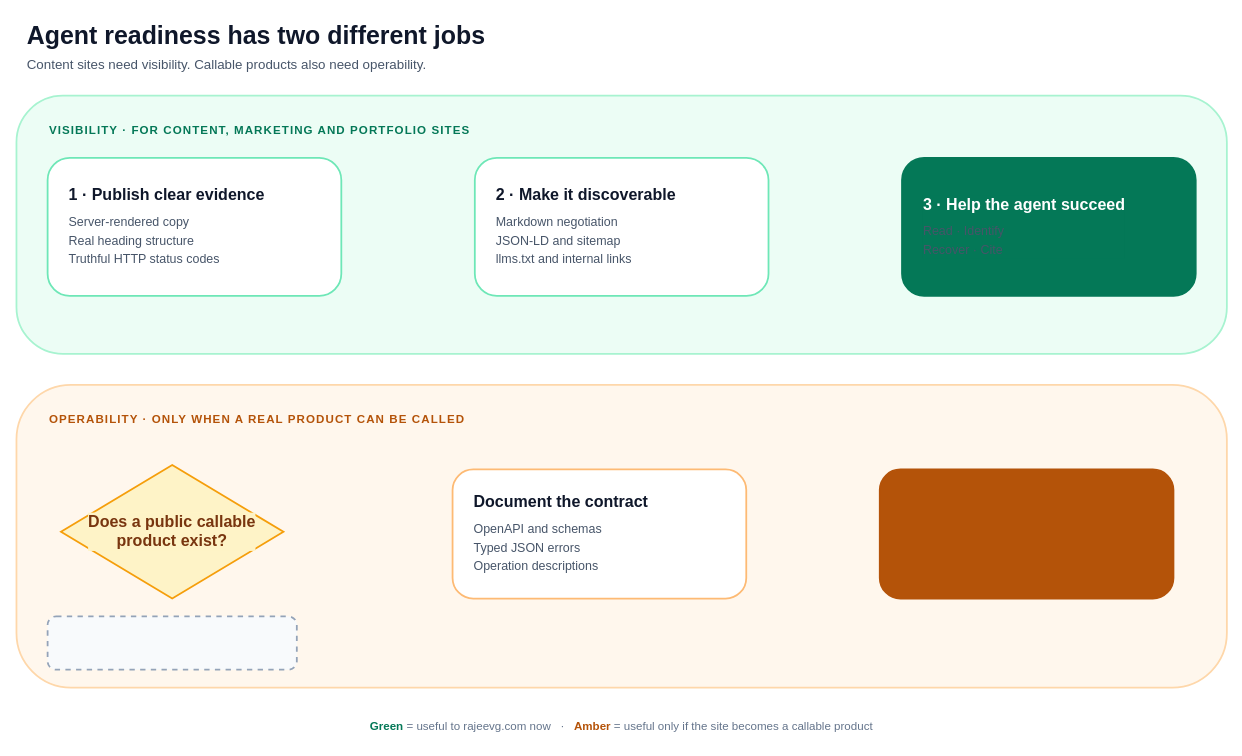
Image size: 1242x756. Some labels were removed from this diagram. The shapes that lost their labels are listed below. From the top down, each one's centre as x and y in pixels, then its label:
At pixel 1026 533: "Expose real tools CLI or SDK Function calling Auth and rate limits".
At pixel 171 642: "NO · Stop at visibility Do not invent an API for a score.".
